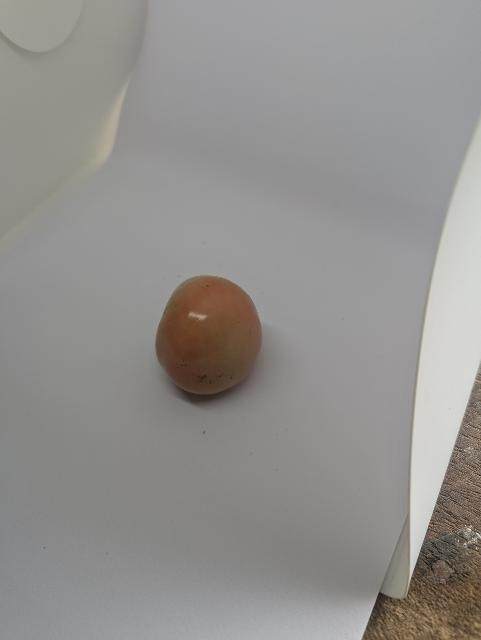turning: (147, 267, 284, 408)
